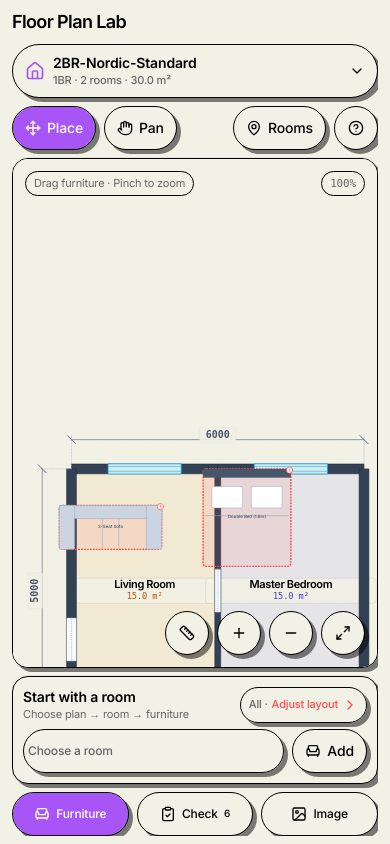
it: Mobile Floor Plan Editor Ergonomics (AC-5, AC-4, AC-27) › exposes Spatial Rule Feedback panel in mobile bottom sheet
This screenshot has width=390, height=844.
Click the button with test id "mobile-rules-btn".
click(195, 814)  # box [137,792,253,836]
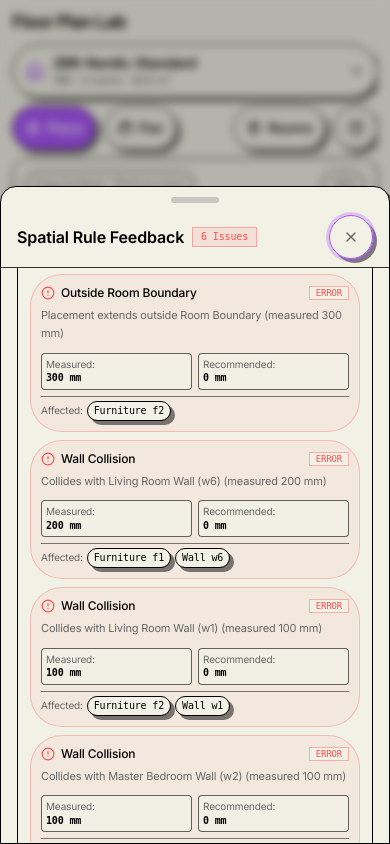
Check: the dialog with test id "mobile-bottom-sheet" is shown
